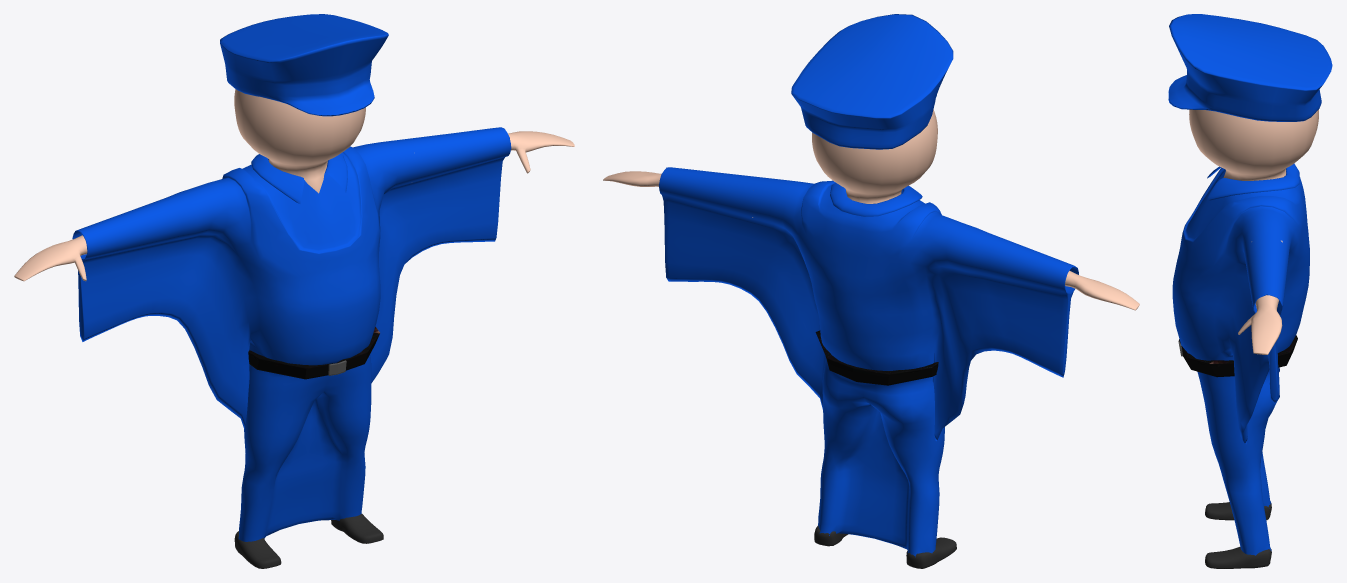
File: Police.fbx
3 renders of one model, left to right at view 1: azimuth 30°, elevation 25°; view 2: azimuth 150°, elevation 25°; view 3: azimuth 270°, elevation 25°, orthographic. The views are drawn at different scales.
Parts seen in each view (by area): view 1: Police_with_wings:Police:polySurface26, Police_with_wings:Police:polySurface6, Police_with_wings:Police:polySurface15, Police_with_wings:Police:polySurface7; view 2: Police_with_wings:Police:polySurface26, Police_with_wings:Police:polySurface6, Police_with_wings:Police:polySurface15, Police_with_wings:Police:polySurface7; view 3: Police_with_wings:Police:polySurface26, Police_with_wings:Police:polySurface6, Police_with_wings:Police:polySurface15, Police_with_wings:Police:polySurface7.
Part boxes in pixels (box(x1,y1,x2,y2)): Police_with_wings:Police:polySurface26: box(14, 127, 574, 568); Police_with_wings:Police:polySurface6: box(220, 14, 388, 116); Police_with_wings:Police:polySurface15: box(234, 89, 365, 193); Police_with_wings:Police:polySurface7: box(248, 327, 379, 379); Police_with_wings:Police:polySurface26: box(603, 167, 1139, 568); Police_with_wings:Police:polySurface6: box(791, 14, 953, 149); Police_with_wings:Police:polySurface15: box(812, 109, 937, 203); Police_with_wings:Police:polySurface7: box(815, 330, 938, 385); Police_with_wings:Police:polySurface26: box(1172, 163, 1309, 568); Police_with_wings:Police:polySurface6: box(1168, 14, 1332, 121); Police_with_wings:Police:polySurface15: box(1189, 109, 1318, 180); Police_with_wings:Police:polySurface7: box(1178, 335, 1297, 377).
Size of the model in its own units: 9.4 by 8.53 by 2.45.
Materials: 5 (1 with a texture image).
